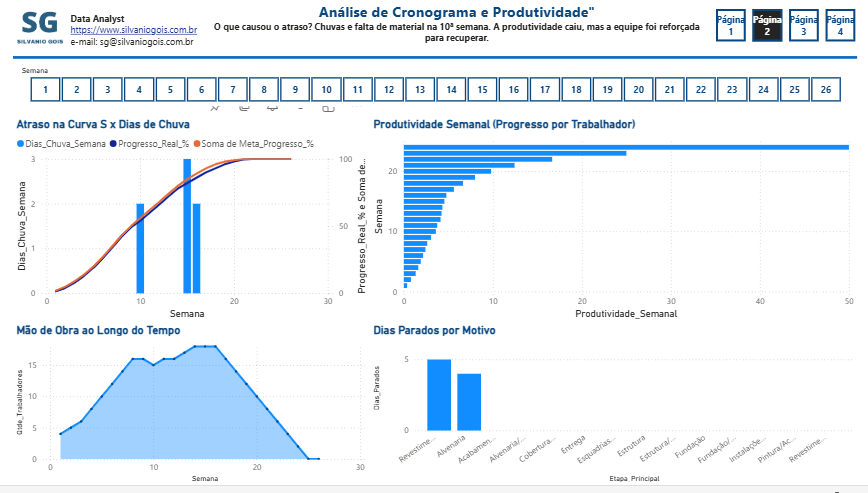

This screenshot's page, from the dashboard's own definition file:
{"tool":"powerbi","page":{"name":"Página 2","canvas":[1280,720],"ordinal":1},"visuals":[{"type":"image","box":[16,0,80,80],"z":0},{"type":"textbox","box":[96,16,208,64],"z":1000},{"type":"textbox","box":[304,0,736,80],"z":2000},{"type":"pageNavigator","box":[1056,16,208,48],"z":3000},{"type":"shape","box":[16,80,1248,16],"z":4000},{"type":"lineClusteredColumnComboChart","title":"Atraso na Curva S x Dias de Chuva","fields":{"Category":["Obra.Semana"],"Y":["Sum(Obra.Dias_Chuva_Semana)"],"Y2":["Sum(Obra.Progresso_Real_%)","Sum(Obra.Meta_Progresso_%)"]},"box":[16,176,528,304],"z":5000},{"type":"areaChart","title":"Mão de Obra ao Longo do Tempo","fields":{"Category":["Obra.Semana"],"Y":["Sum(Obra.Qtde_Trabalhadores)"]},"box":[16,480,528,240],"z":6000},{"type":"barChart","title":"Produtividade Semanal (Progresso por Trabalhador)","fields":{"Category":["Obra.Semana"],"Y":["Medidas_Pag2.Produtividade_Semanal"]},"box":[544,176,720,304],"z":7000},{"type":"columnChart","title":"Dias Parados por Motivo","fields":{"Category":["Obra.Etapa_Principal"],"Y":["Medidas_Pag2.Dias_Parados"]},"box":[544,480,720,240],"z":8000},{"type":"slicer","fields":{"Values":["Obra.Semana"]},"box":[16,96,1248,64],"z":9000}]}

Visuals, with their boxes on the page's 1280x720 design canvas (x1, y1, x2, y2). These are canvas units, not pixel positions in the 868x493 screenshot, which may show the page scaled, cropped or inside an application window:
image: x1=16 y1=0 x2=96 y2=80
textbox: x1=96 y1=16 x2=304 y2=80
textbox: x1=304 y1=0 x2=1040 y2=80
pageNavigator: x1=1056 y1=16 x2=1264 y2=64
shape: x1=16 y1=80 x2=1264 y2=96
"Atraso na Curva S x Dias de Chuva" lineClusteredColumnComboChart: x1=16 y1=176 x2=544 y2=480
"Mão de Obra ao Longo do Tempo" areaChart: x1=16 y1=480 x2=544 y2=720
"Produtividade Semanal (Progresso por Trabalhador)" barChart: x1=544 y1=176 x2=1264 y2=480
"Dias Parados por Motivo" columnChart: x1=544 y1=480 x2=1264 y2=720
slicer - Obra.Semana: x1=16 y1=96 x2=1264 y2=160
